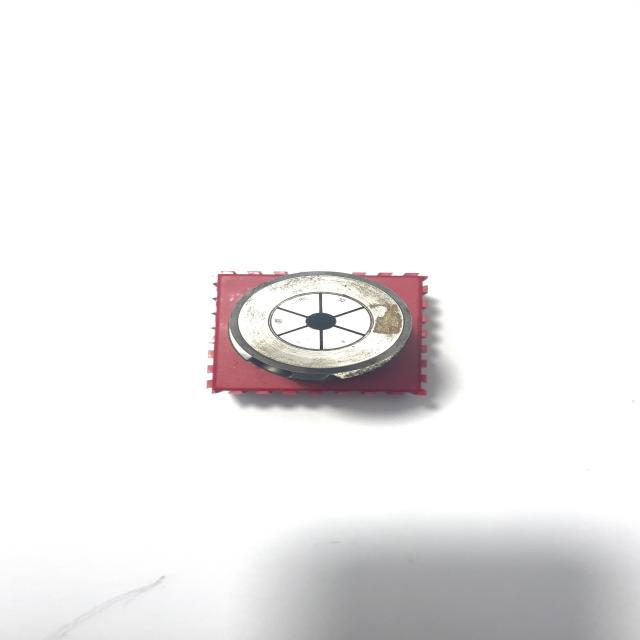Filled_Slot: (227, 272, 411, 381)
